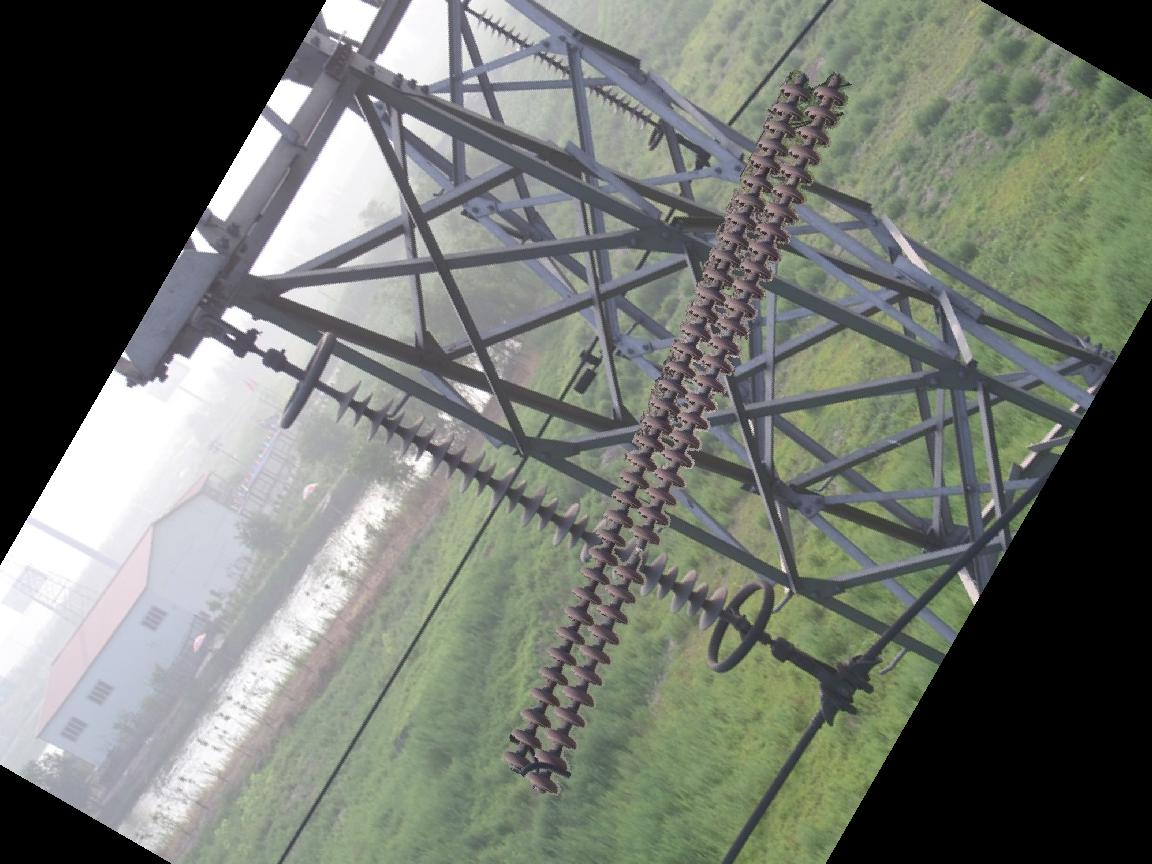insulator: (495, 72, 857, 796), (325, 378, 739, 636), (467, 4, 657, 136)
insulator_stringdrop: (610, 523, 663, 585)
